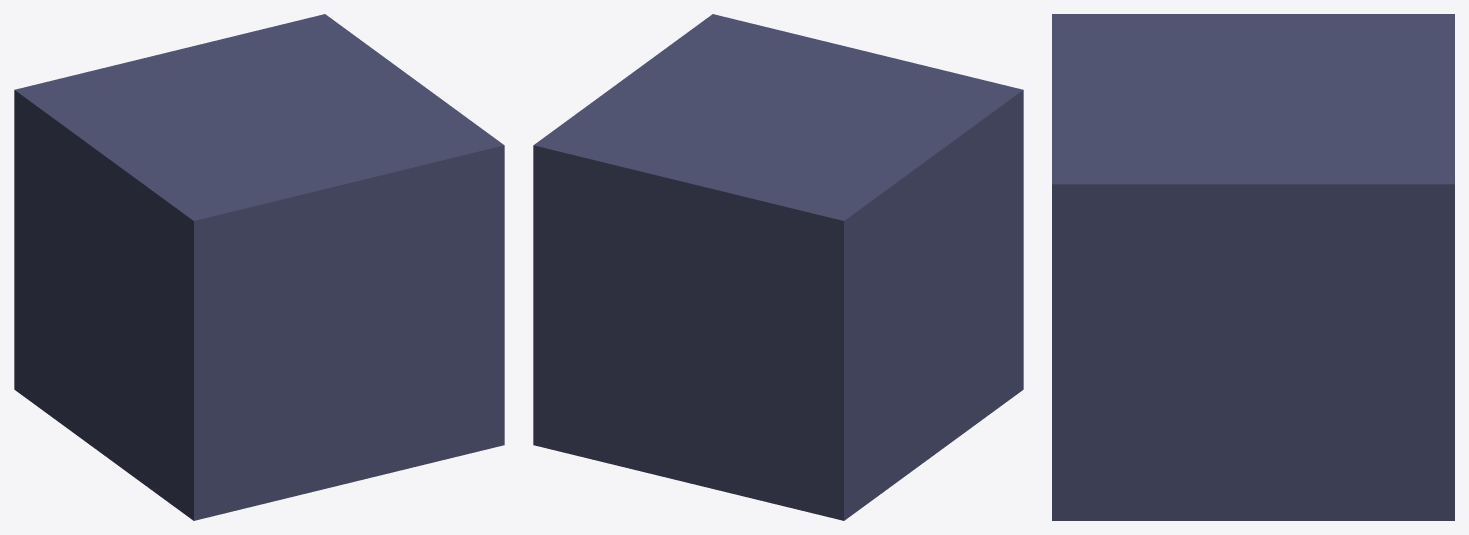
File: Wall_Block_Squre_01.glb
The picture shows the model from 3 angles, left to right: view 1: azimuth 30°, elevation 25°; view 2: azimuth 150°, elevation 25°; view 3: azimuth 270°, elevation 25°; orthographic projection. The views are drawn at different scales.
Visible parts, largest first — view 1: Wall_Block_Squre_01; view 2: Wall_Block_Squre_01; view 3: Wall_Block_Squre_01.
Part boxes in pixels (x1,y1,x2,y2): Wall_Block_Squre_01: (14, 14, 504, 520); Wall_Block_Squre_01: (533, 14, 1023, 520); Wall_Block_Squre_01: (1052, 14, 1454, 520).
Bounding box in the file's own units: 4 × 3.69 × 4.
Materials: 1 (1 with a texture image).
